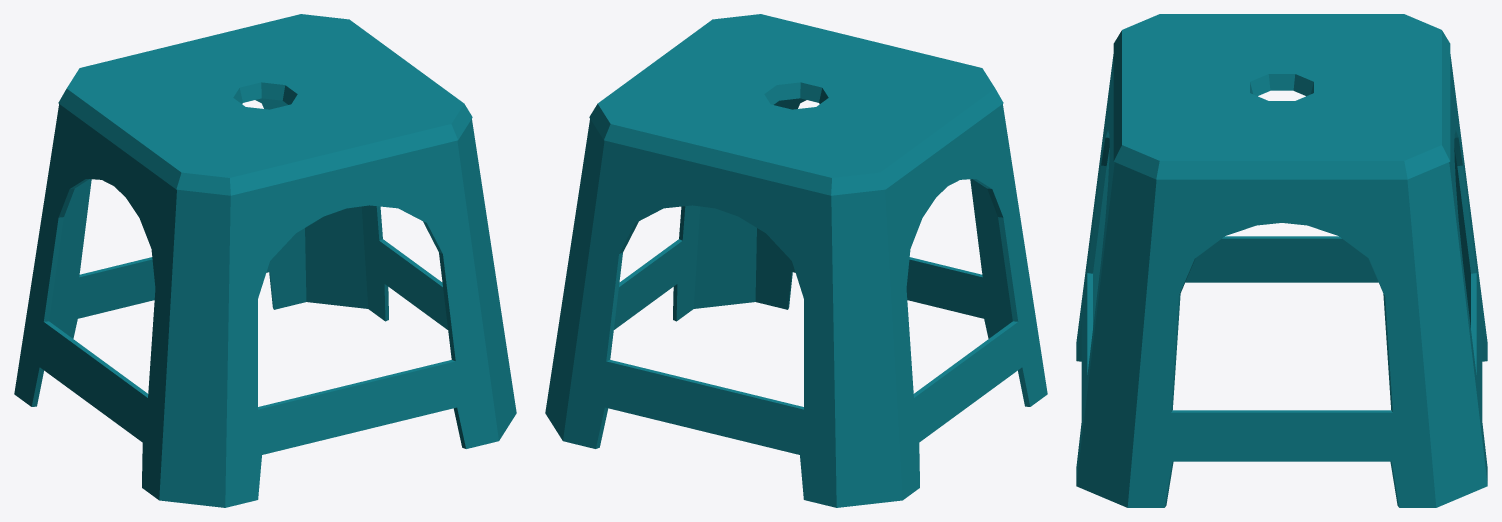
File: SM_Furniture_StoolLow_Cyan_01.fbx
The picture shows the model from 3 angles, left to right: view 1: azimuth 30°, elevation 25°; view 2: azimuth 150°, elevation 25°; view 3: azimuth 270°, elevation 25°; orthographic projection. The views are drawn at different scales.
Parts seen in each view (by area): view 1: SM_Furniture_StoolLow_Cyan_01; view 2: SM_Furniture_StoolLow_Cyan_01; view 3: SM_Furniture_StoolLow_Cyan_01.
Part boxes in pixels (left/top/right/bottom): SM_Furniture_StoolLow_Cyan_01: left=14, top=14, right=516, bottom=507; SM_Furniture_StoolLow_Cyan_01: left=545, top=14, right=1047, bottom=507; SM_Furniture_StoolLow_Cyan_01: left=1076, top=14, right=1487, bottom=507.
Bounding box in the file's own units: 0.316 × 0.26 × 0.296.
Materials: 1 (1 with a texture image).
